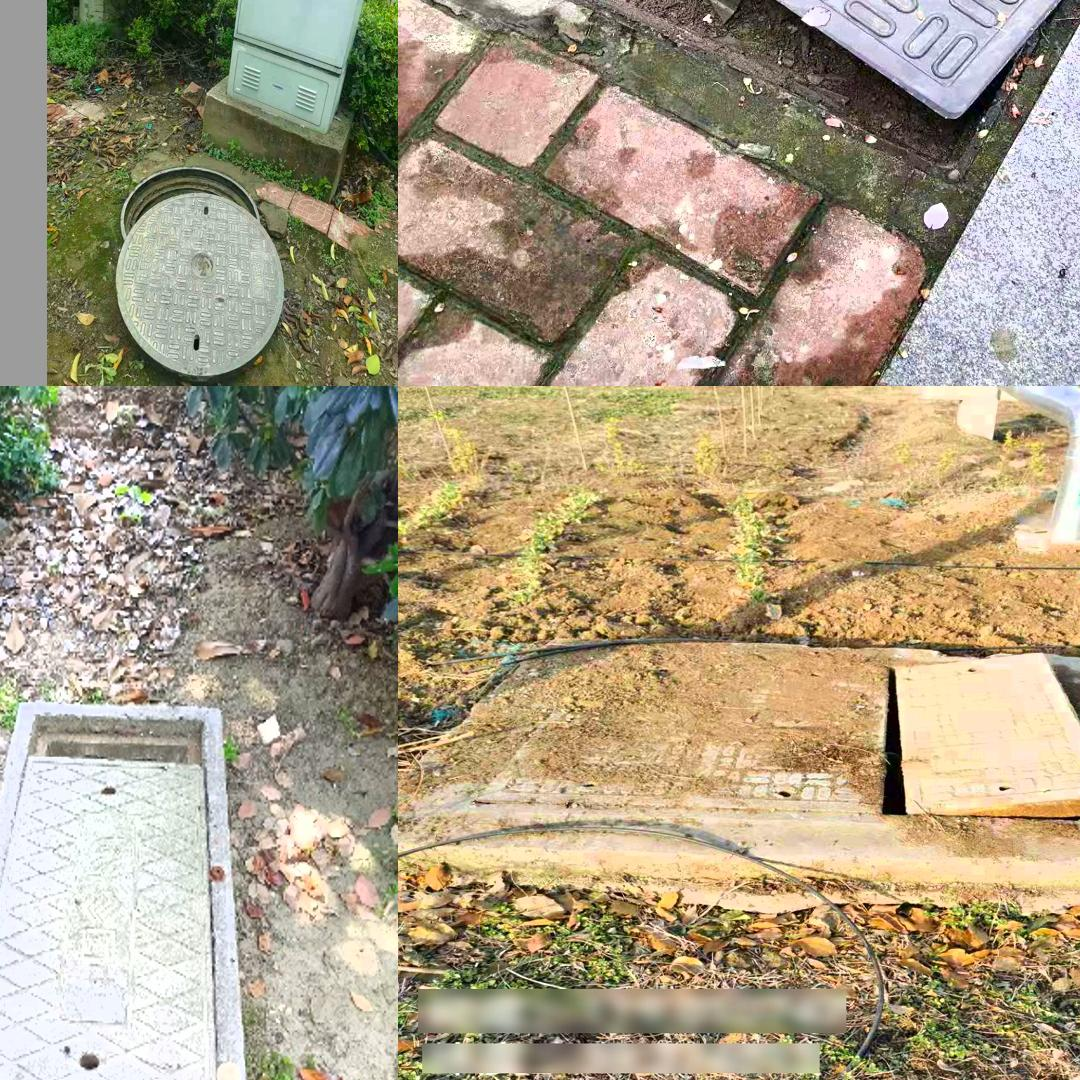uncovered: (403, 0, 1080, 177), (471, 645, 1080, 827), (0, 696, 248, 1080), (116, 167, 283, 380)
